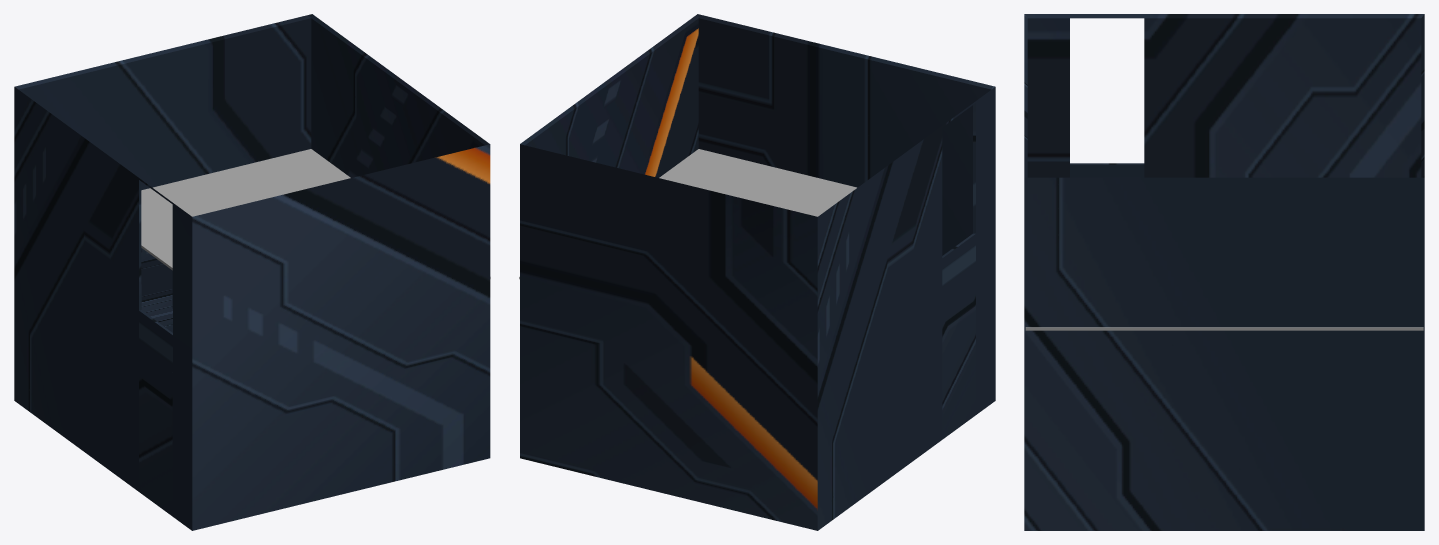
File: Room.fbx
3 renders of one model, left to right at view 1: azimuth 30°, elevation 25°; view 2: azimuth 150°, elevation 25°; view 3: azimuth 270°, elevation 25°, orthographic. The views are drawn at different scales.
Visible parts, largest first — view 1: pCube1, pCube2, pCube3; view 2: pCube1, pCube2, pCube3; view 3: pCube1, pCube2.
Part boxes in pixels (x1,y1,x2,y2): pCube1: (14,14,490,530); pCube2: (141,149,490,278); pCube3: (141,180,188,270); pCube1: (520,14,995,530); pCube2: (519,149,823,279); pCube3: (784,179,856,216); pCube1: (1024,14,1424,530); pCube2: (1025,327,1423,330).
Bounding box in the file's own units: 2373 × 2384 × 2446.
Materials: 4 (2 with a texture image).
